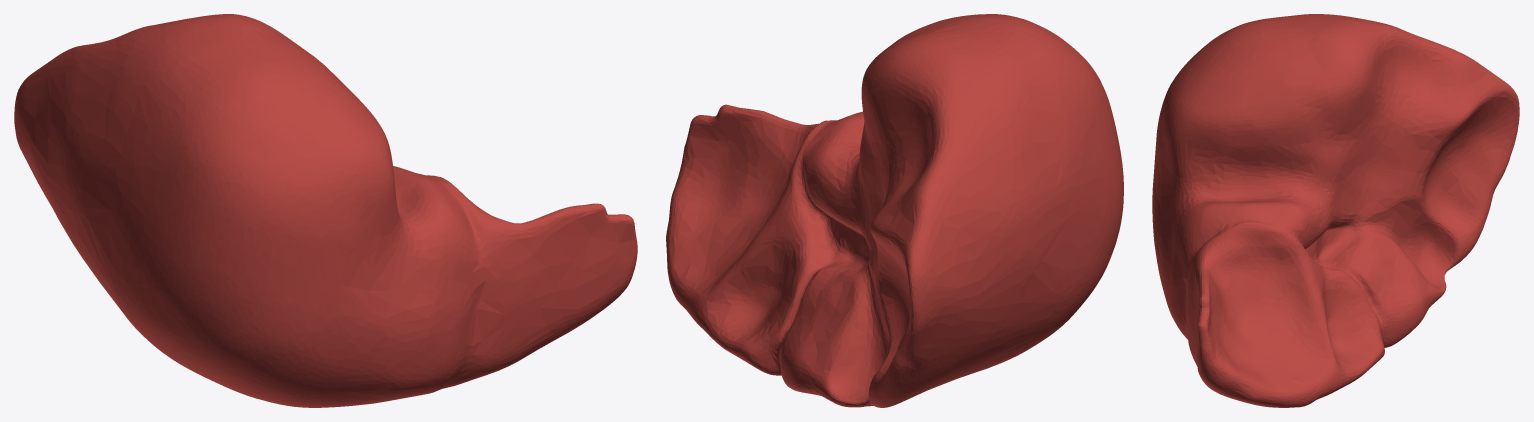
The model's file is liver.glb.
3 renders of one model, left to right at view 1: azimuth 30°, elevation 25°; view 2: azimuth 150°, elevation 25°; view 3: azimuth 270°, elevation 25°, orthographic. The views are drawn at different scales.
Bounding box in the file's own units: 199 × 150 × 174.
